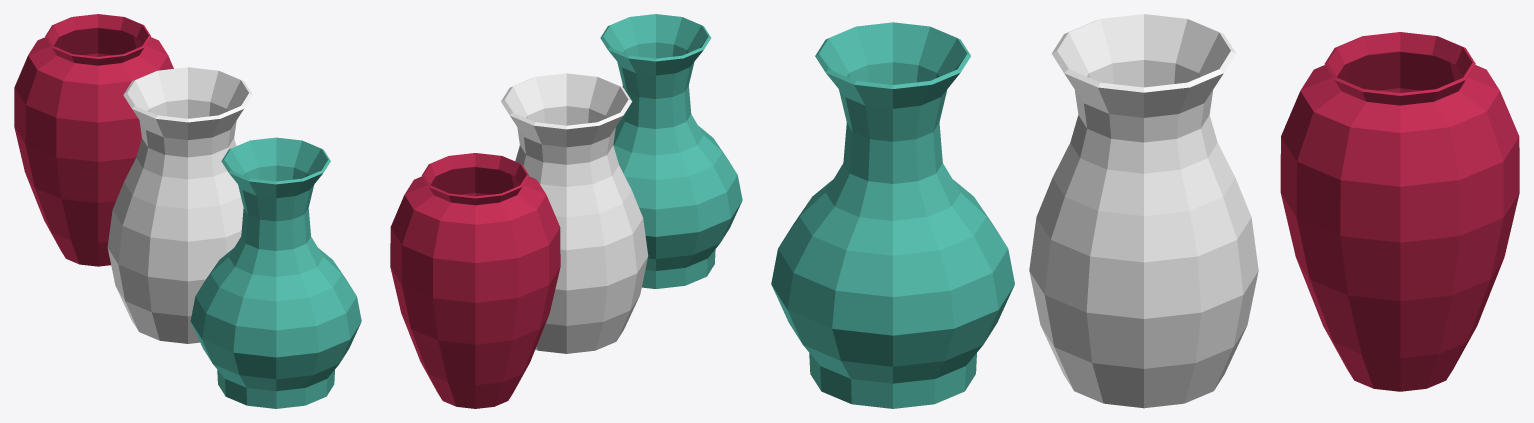
The model's file is Three Vase Set.glb.
The picture shows the model from 3 angles, left to right: view 1: azimuth 30°, elevation 25°; view 2: azimuth 150°, elevation 25°; view 3: azimuth 270°, elevation 25°; orthographic projection. The views are drawn at different scales.
Visible parts, largest first — view 1: node-0; view 2: node-0; view 3: node-0.
Boxes of the visible parts, <box> form: node-0: <box>14,14,361,408</box>; node-0: <box>390,14,742,408</box>; node-0: <box>771,14,1519,408</box>.
Size of the model in its own units: 3.08 by 4.52 by 9.44.
